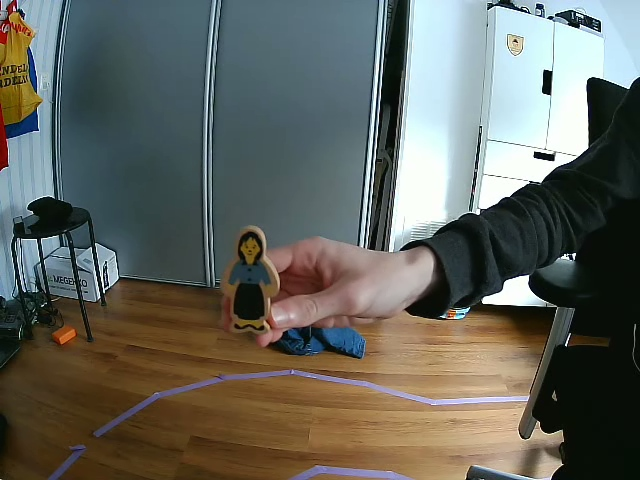mens: (223, 225, 281, 333)
